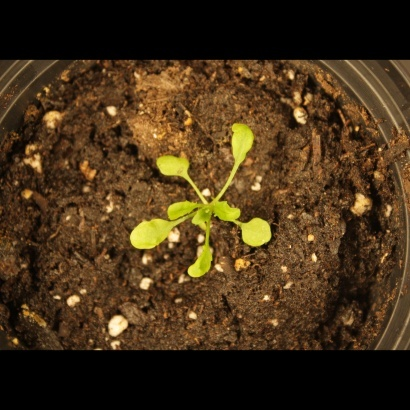leaf: (151, 148, 202, 189), (122, 217, 177, 252), (227, 118, 259, 172), (186, 241, 221, 285), (163, 195, 205, 226), (240, 215, 275, 250), (208, 195, 245, 222), (190, 209, 213, 232)
